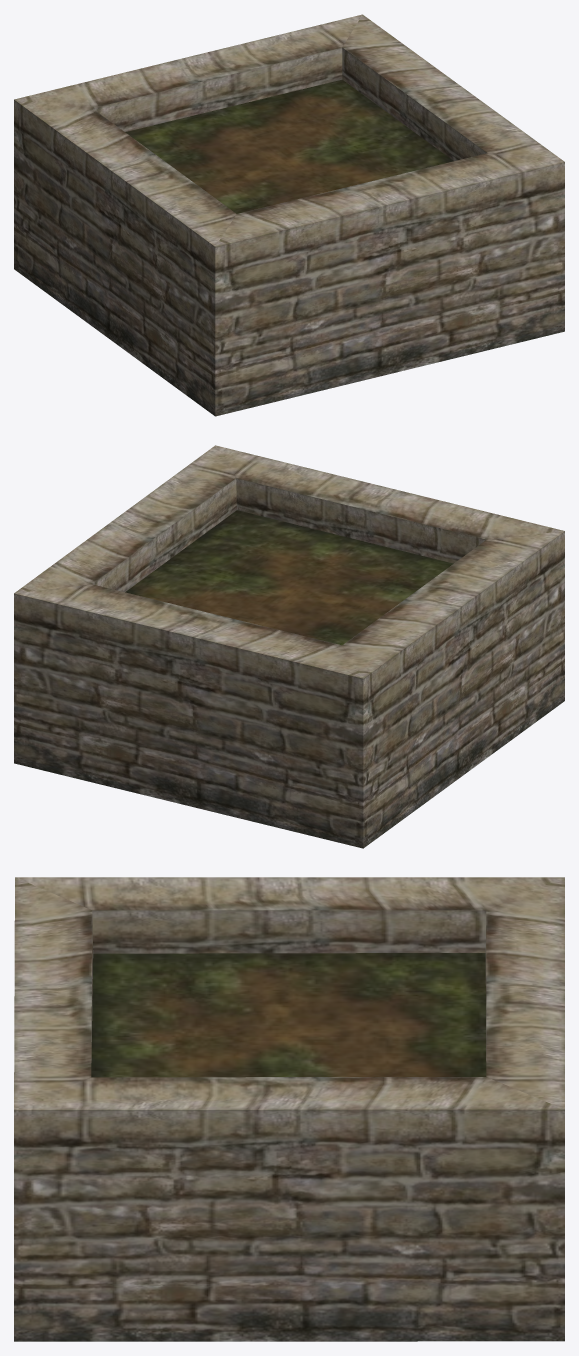
File: TreeBase.fbx
3 renders of one model, top to bottom at view 1: azimuth 30°, elevation 25°; view 2: azimuth 150°, elevation 25°; view 3: azimuth 270°, elevation 25°, orthographic. The views are drawn at different scales.
Parts seen in each view (by area): view 1: tree_base_high; view 2: tree_base_high; view 3: tree_base_high.
Part boxes in pixels (left/top/right/bottom): tree_base_high: left=14, top=14, right=564, bottom=416; tree_base_high: left=14, top=445, right=564, bottom=848; tree_base_high: left=14, top=877, right=564, bottom=1341.
Size of the model in its own units: 696 by 323 by 696.
Materials: 1 (1 with a texture image).
